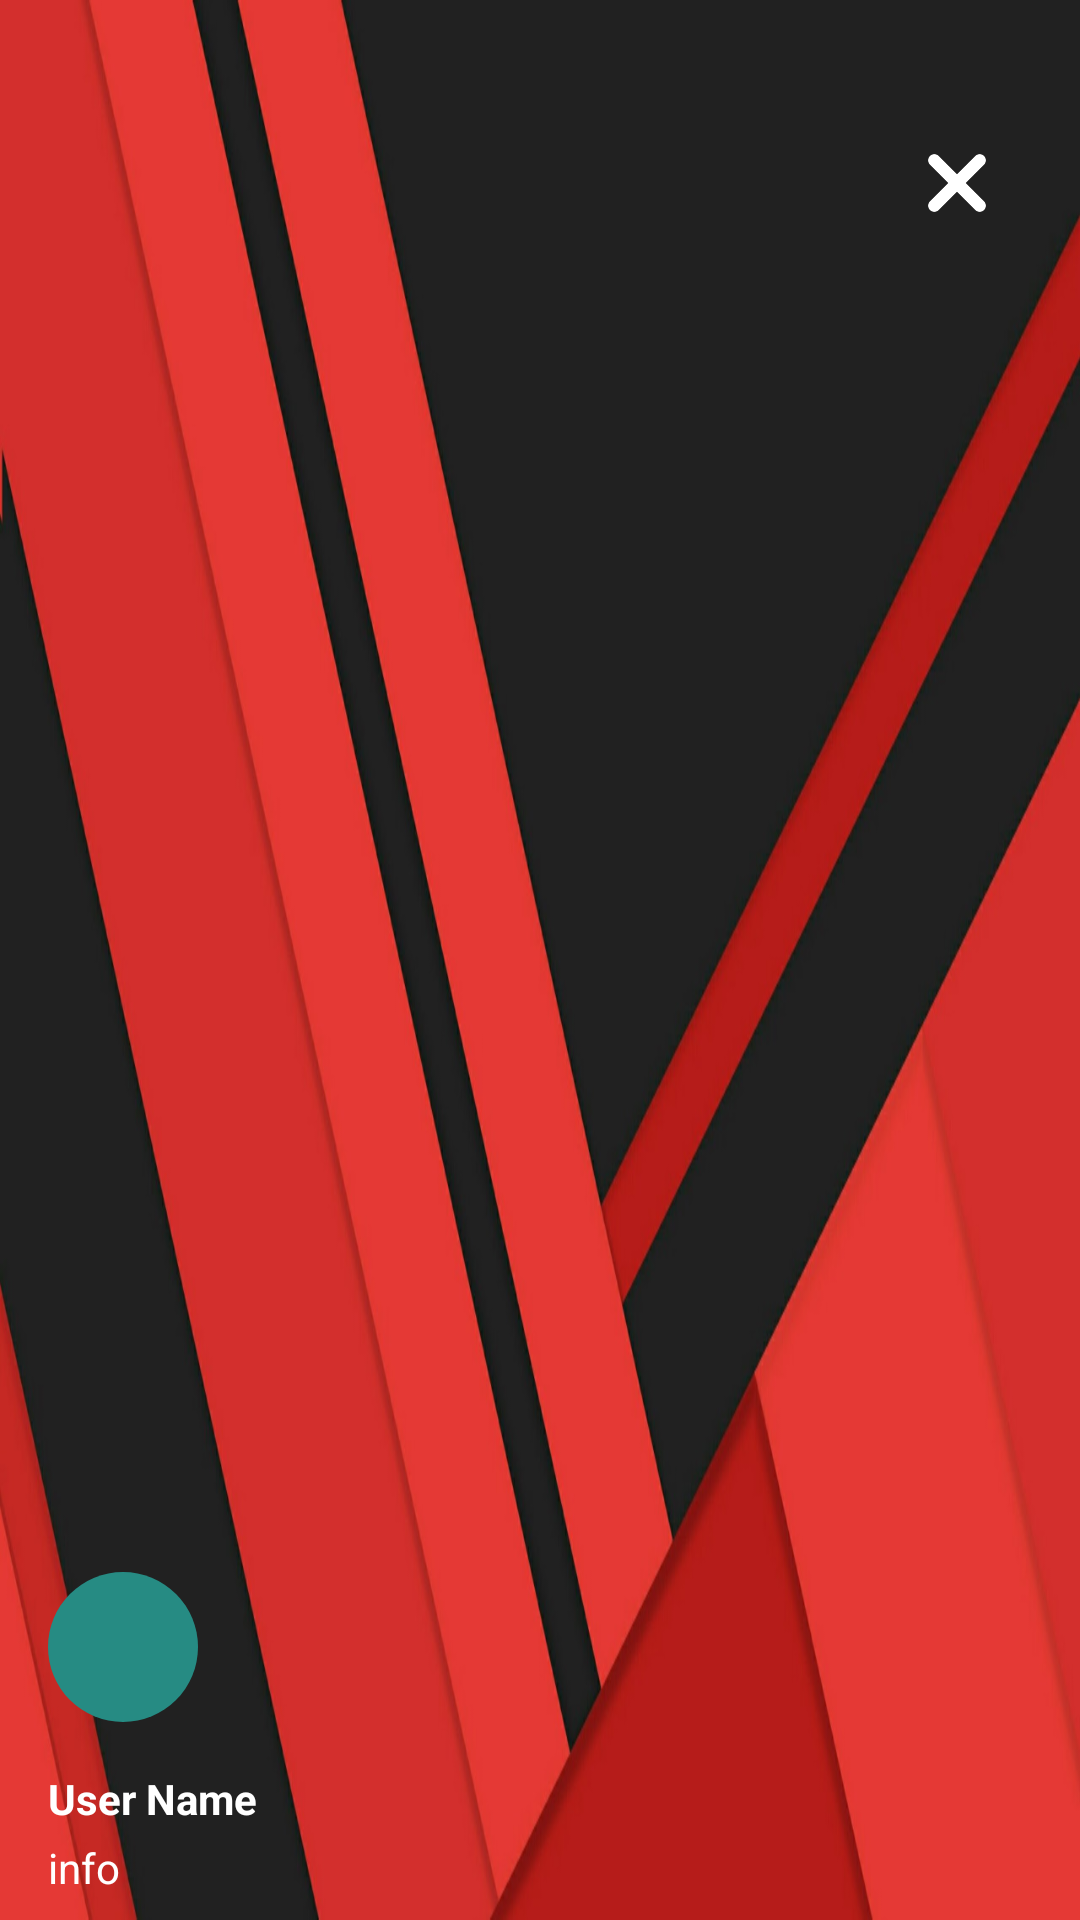

Locate icon controls on the screen. Image size 1080w x 1920h, boxes as bbox=(x1, y1, x2, y2).
close: bbox=(928, 154, 986, 212)
